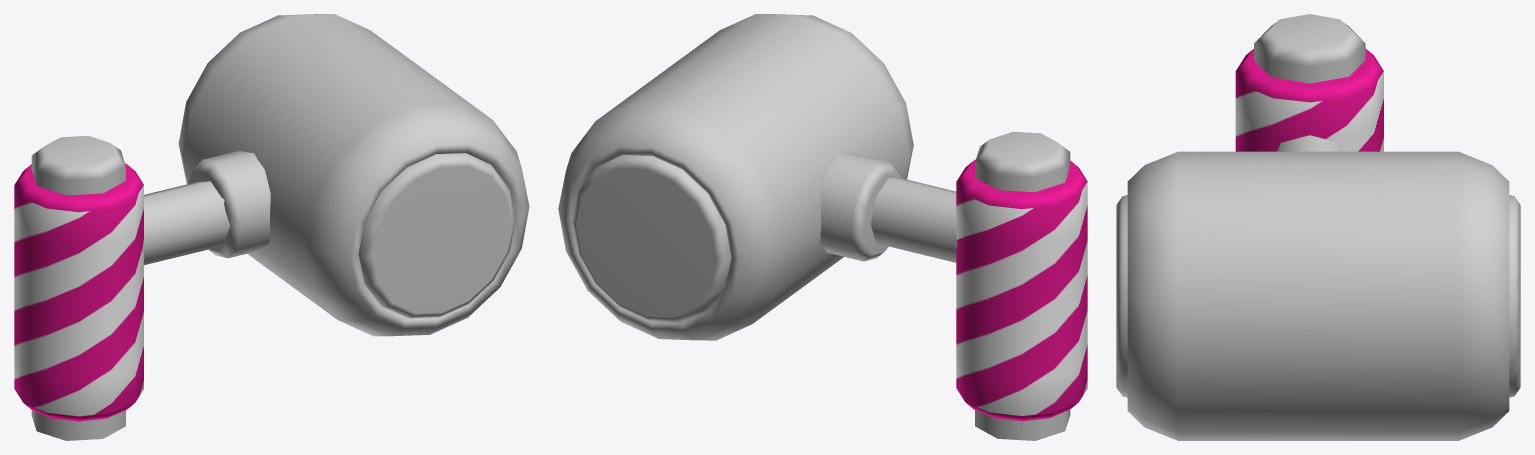
File: obstacle_1_001.fbx
3 renders of one model, left to right at view 1: azimuth 30°, elevation 25°; view 2: azimuth 150°, elevation 25°; view 3: azimuth 270°, elevation 25°, orthographic. The views are drawn at different scales.
Visible parts, largest first — view 1: obstacle_1_001; view 2: obstacle_1_001; view 3: obstacle_1_001.
Part boxes in pixels (box(x1,y1,x2,y2)): obstacle_1_001: box(14, 14, 529, 440); obstacle_1_001: box(558, 14, 1087, 440); obstacle_1_001: box(1116, 14, 1520, 440).
Bounding box in the file's own units: 273 × 188 × 170.
